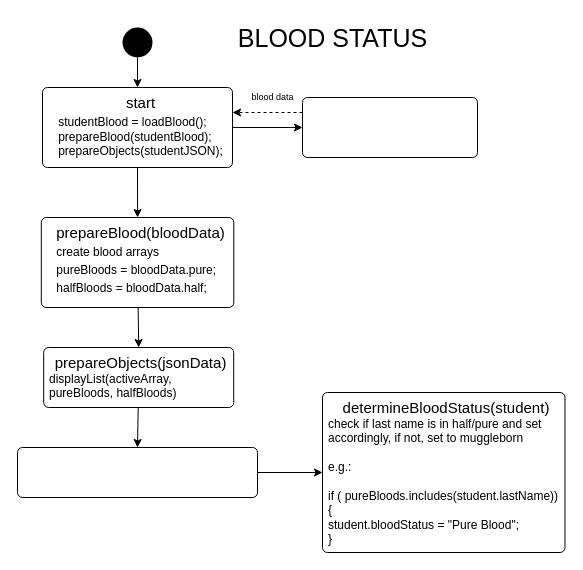
This 583x570 diagram has some shape labels left out. Here are the shapes that lost their labels. From the top down, the box of each, then its label:
(302, 96, 478, 158): loadBlood fetch blood URL return blood data
(16, 446, 258, 498): displayList(students) students.forEach(determineBloodStatus);
